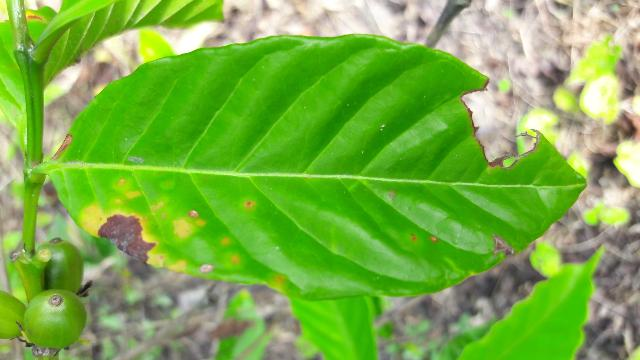rust_level_2: (44, 36, 587, 300)
